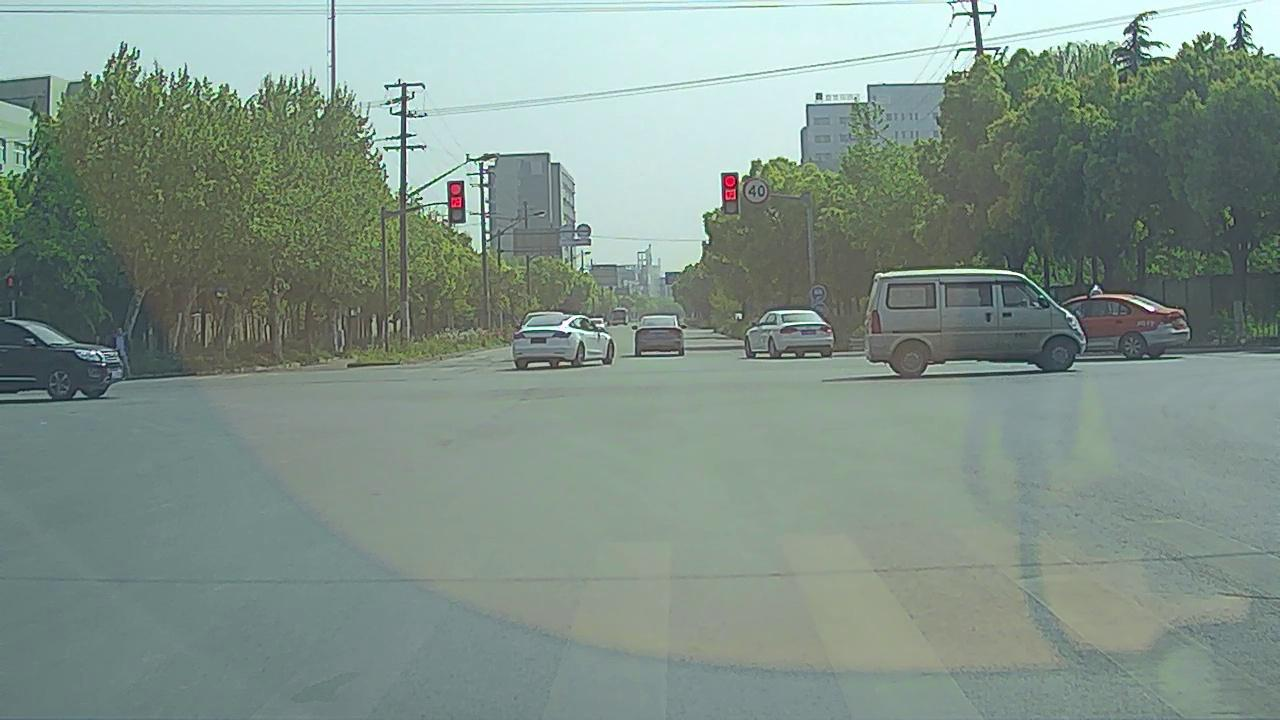traffic_light: (721, 173, 738, 215), (448, 182, 465, 222)
